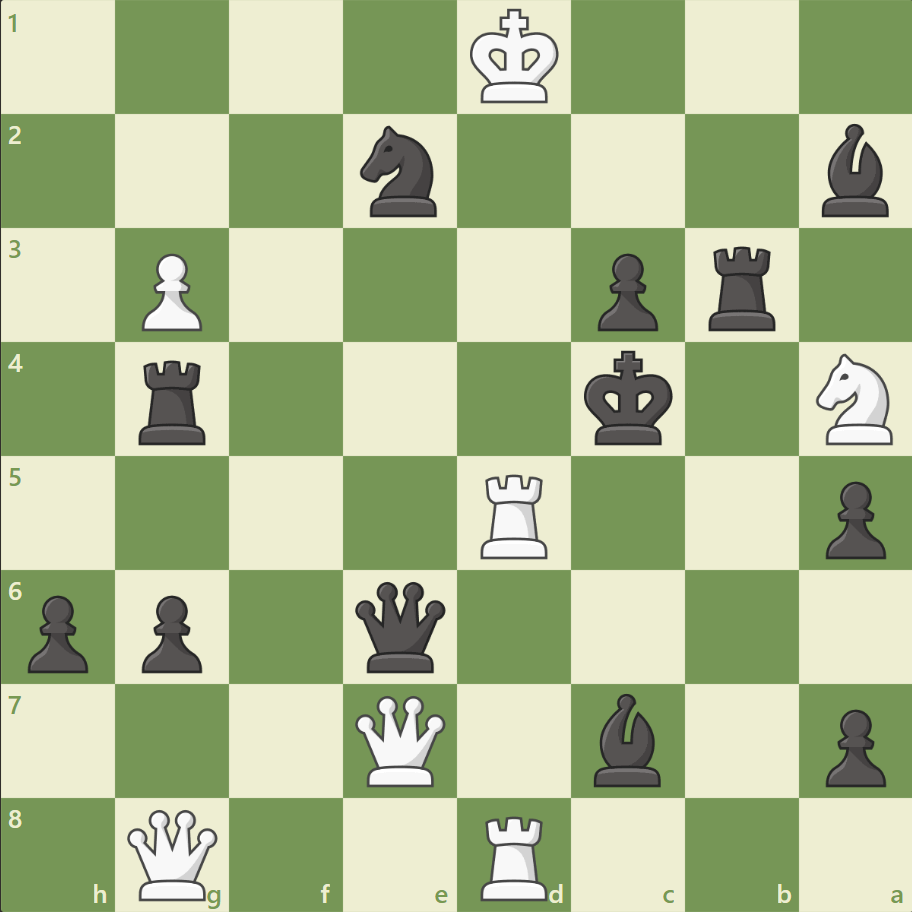K: (465, 4, 565, 112)
N: (806, 348, 903, 450)
P: (133, 246, 208, 337)
Q: (124, 804, 223, 903), (351, 690, 450, 789)
R: (473, 806, 556, 904), (473, 466, 556, 563)
b: (585, 687, 669, 790), (812, 120, 896, 222)
k: (579, 344, 679, 452)
n: (351, 121, 449, 223)
p: (133, 586, 208, 677), (20, 586, 95, 677), (815, 700, 889, 791), (815, 473, 889, 564), (588, 246, 662, 337)
q: (351, 576, 450, 676)
r: (700, 239, 783, 336), (133, 352, 215, 449)
